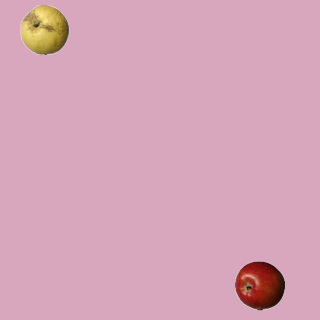Apple Braeburn: (234, 260, 284, 310)
Apple Golden 1: (19, 4, 69, 54)
